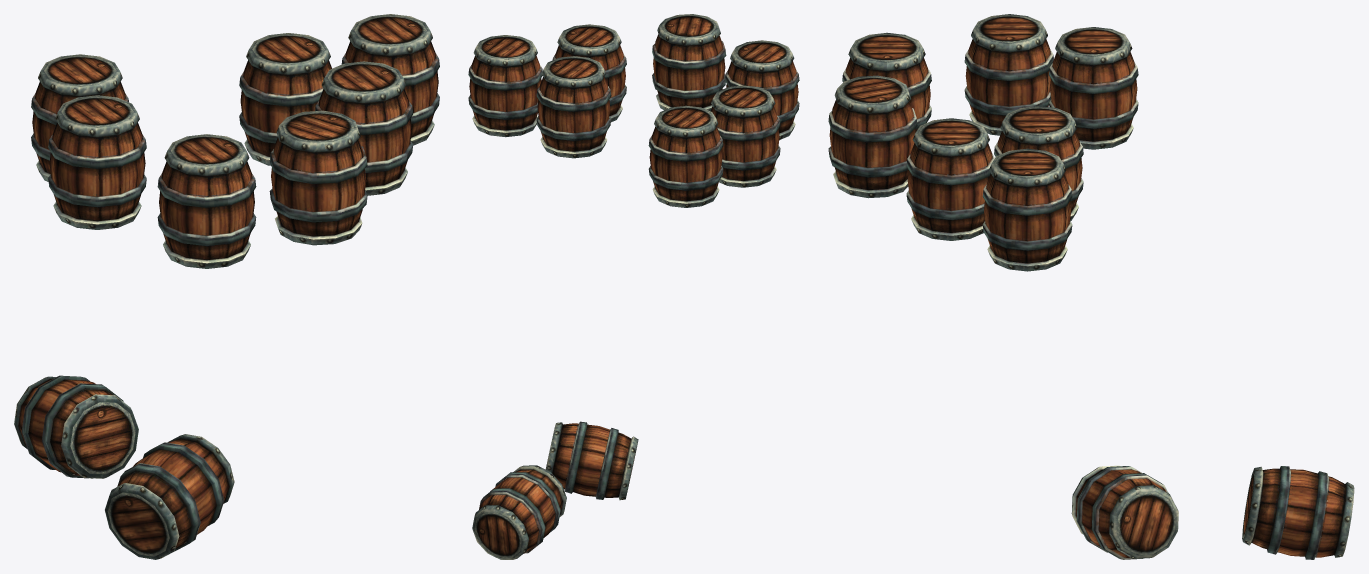
Rendered from PUSH6_BARRELS.fbx.
3 views of the same model, side by side, from view 1: azimuth 30°, elevation 25°; view 2: azimuth 150°, elevation 25°; view 3: azimuth 270°, elevation 25° (orthographic). The views are drawn at different scales.
Visible parts, largest first — view 1: PUSH6_BARRELS; view 2: PUSH6_BARRELS; view 3: PUSH6_BARRELS.
Part boxes in pixels (x1=…): PUSH6_BARRELS: x1=14, y1=14, x2=439, y2=559; PUSH6_BARRELS: x1=468, y1=14, x2=799, y2=559; PUSH6_BARRELS: x1=828, y1=14, x2=1354, y2=559.
Bounding box in the file's own units: 35846 × 45489 × 46166.
Materials: 2 (2 with a texture image).
